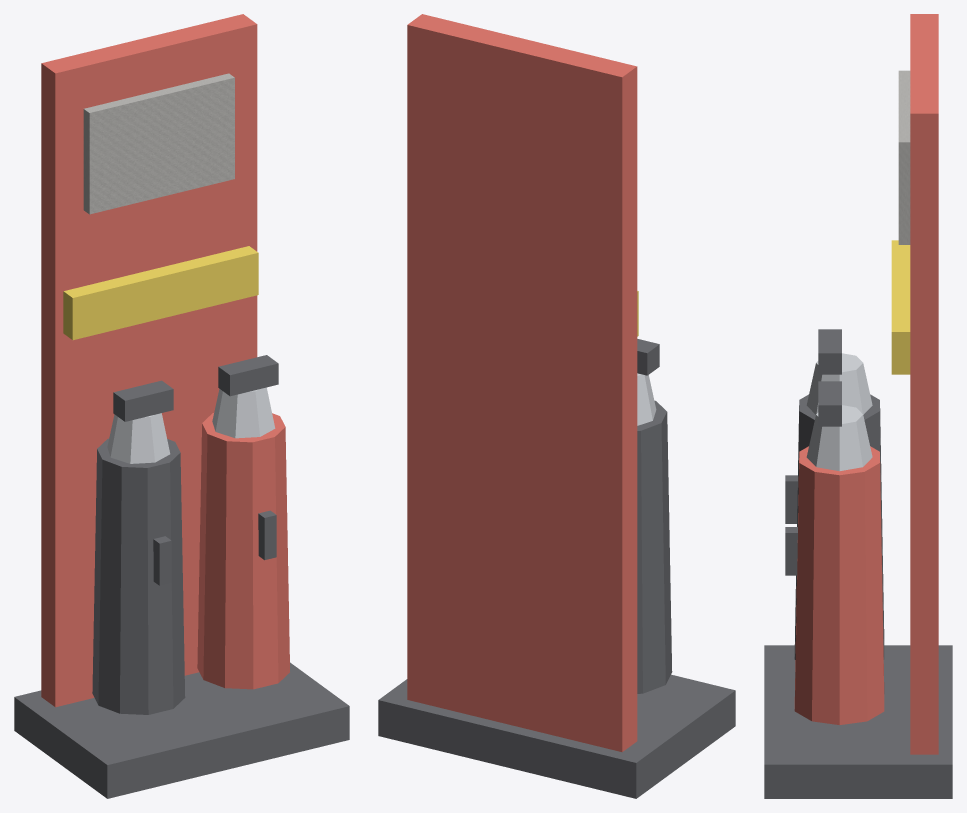
File: street-food-market-and-food-trucks-fire-extinguisher-p-1bc646d7.glb
The picture shows the model from 3 angles, left to right: view 1: azimuth 30°, elevation 25°; view 2: azimuth 150°, elevation 25°; view 3: azimuth 270°, elevation 25°; orthographic projection. The views are drawn at different scales.
Parts seen in each view (by area): view 1: fire-extinguisher-point-scarlet, fire-extinguisher-point-charcoal, fire-extinguisher-point-concrete, fire-extinguisher-point-canary, fire-extinguisher-point-steel; view 2: fire-extinguisher-point-scarlet, fire-extinguisher-point-charcoal, fire-extinguisher-point-steel; view 3: fire-extinguisher-point-scarlet, fire-extinguisher-point-charcoal, fire-extinguisher-point-steel, fire-extinguisher-point-canary, fire-extinguisher-point-concrete.
Boxes of the visible parts, x1=… form: fire-extinguisher-point-scarlet: x1=41, y1=14, x2=289, y2=707; fire-extinguisher-point-charcoal: x1=14, y1=355, x2=349, y2=798; fire-extinguisher-point-concrete: x1=83, y1=73, x2=234, y2=214; fire-extinguisher-point-canary: x1=63, y1=246, x2=258, y2=340; fire-extinguisher-point-steel: x1=107, y1=387, x2=275, y2=463; fire-extinguisher-point-scarlet: x1=407, y1=14, x2=637, y2=751; fire-extinguisher-point-charcoal: x1=378, y1=339, x2=735, y2=798; fire-extinguisher-point-steel: x1=637, y1=373, x2=656, y2=425; fire-extinguisher-point-scarlet: x1=794, y1=14, x2=938, y2=754; fire-extinguisher-point-charcoal: x1=764, y1=329, x2=952, y2=798; fire-extinguisher-point-steel: x1=806, y1=353, x2=872, y2=471; fire-extinguisher-point-canary: x1=891, y1=240, x2=910, y2=374; fire-extinguisher-point-concrete: x1=898, y1=70, x2=910, y2=244.
Size of the model in its own units: 0.6 by 1.58 by 0.4.
Materials: 5 (1 with a texture image).
